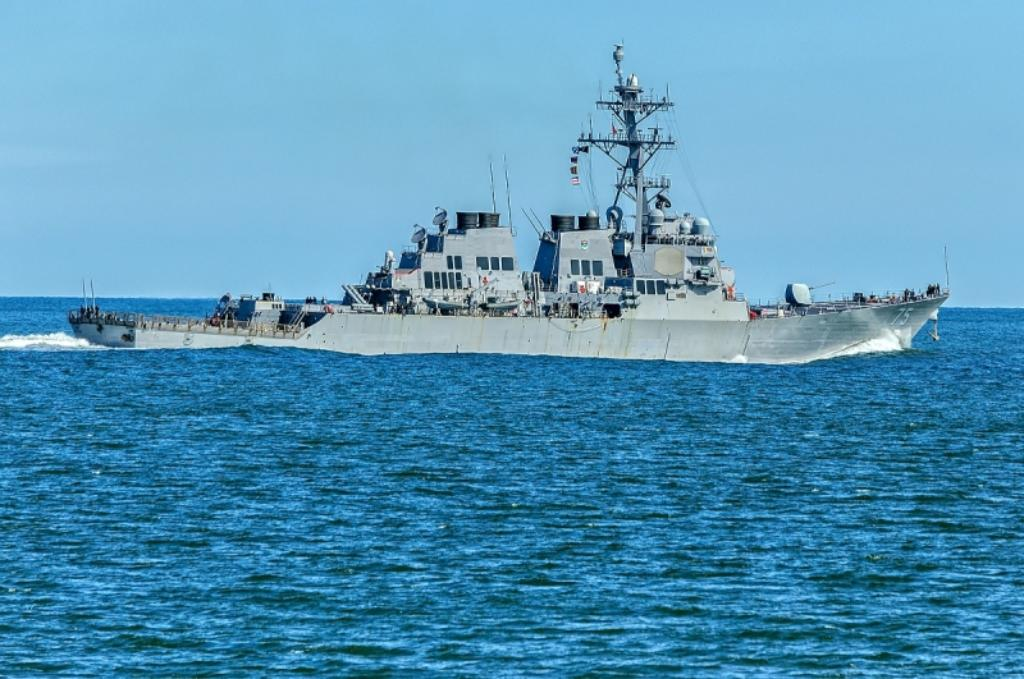Warship: (64, 33, 960, 369)
